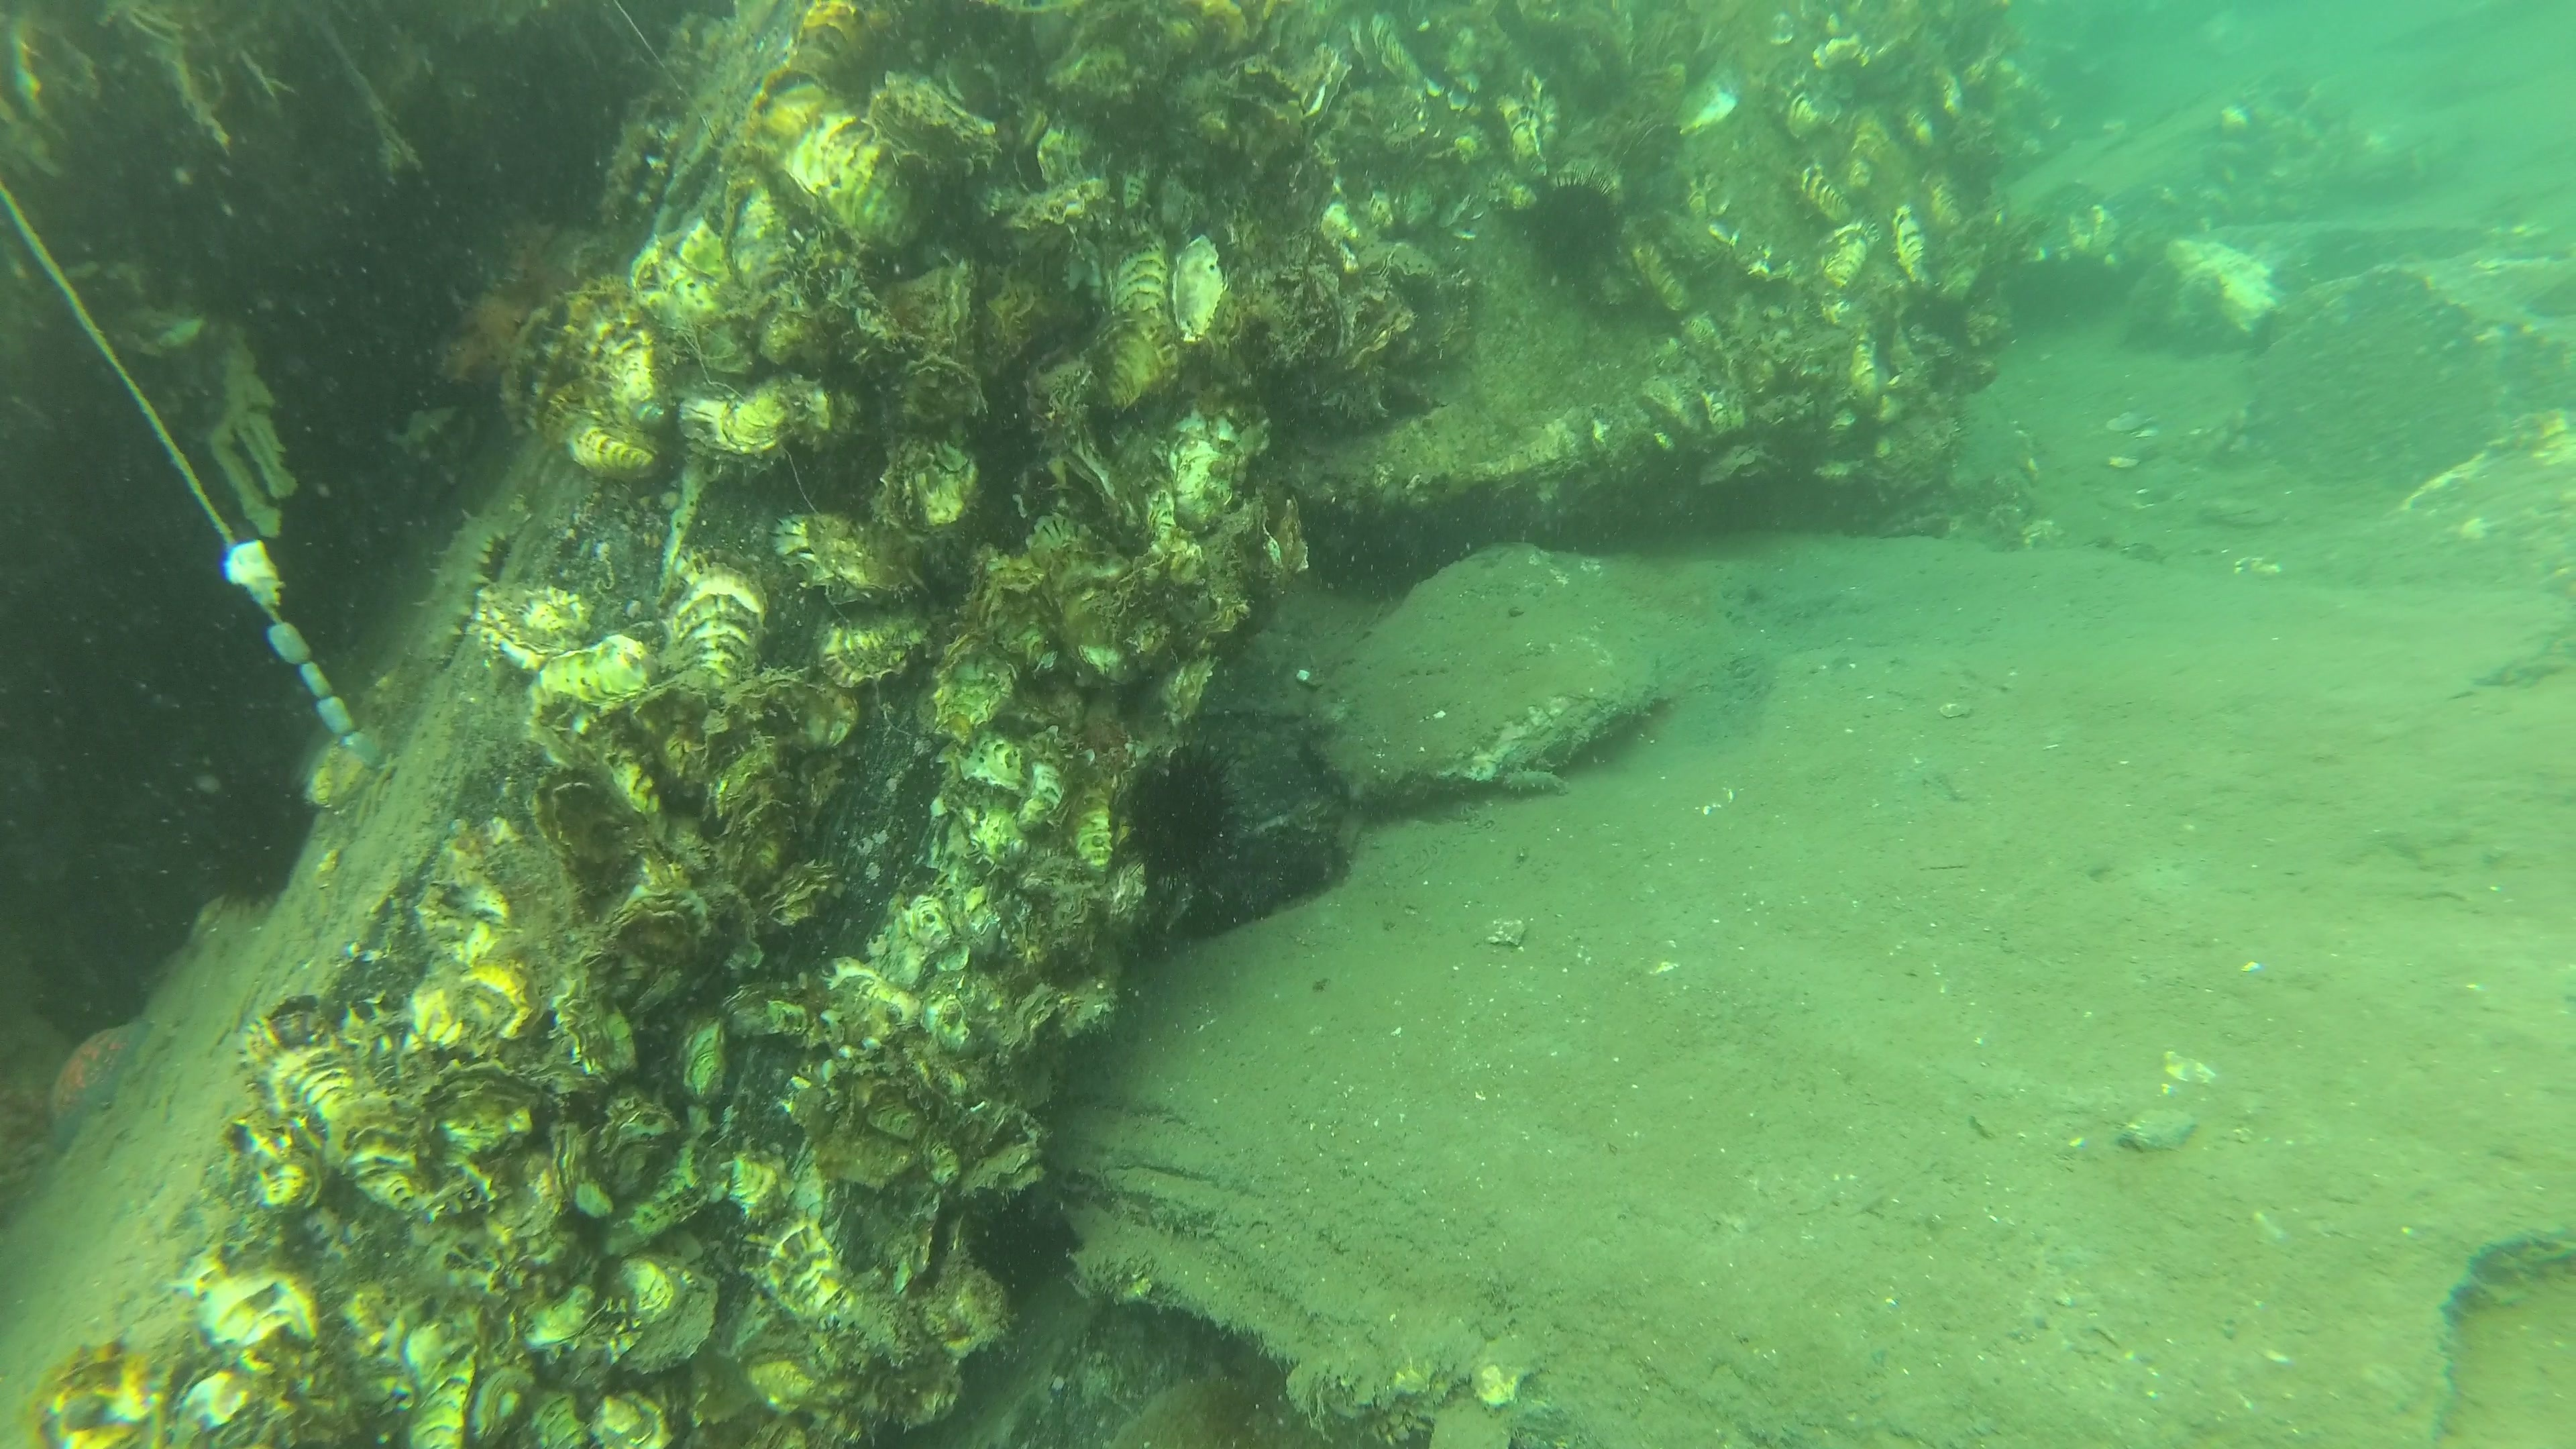echinus: (1122, 741, 1246, 893), (184, 768, 303, 893), (1529, 166, 1633, 299), (961, 1191, 1067, 1299)
holothurian: (405, 511, 511, 671)
starfish: (27, 1003, 163, 1155)
